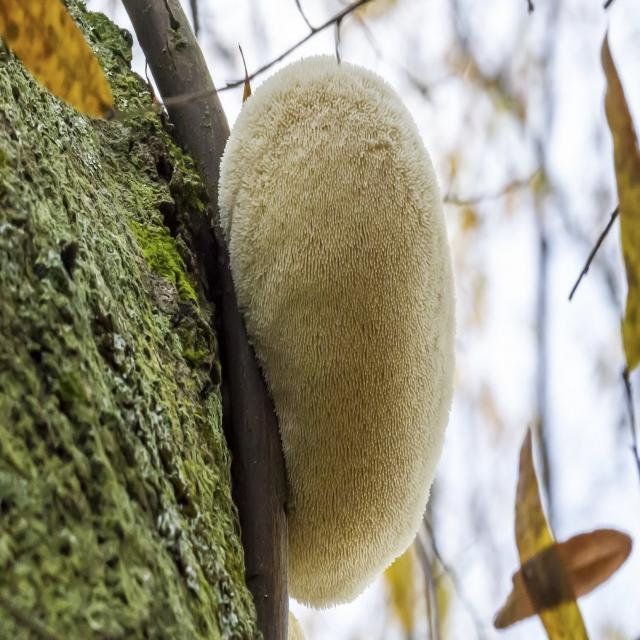Hericium erinaceus: (217, 59, 456, 609)
